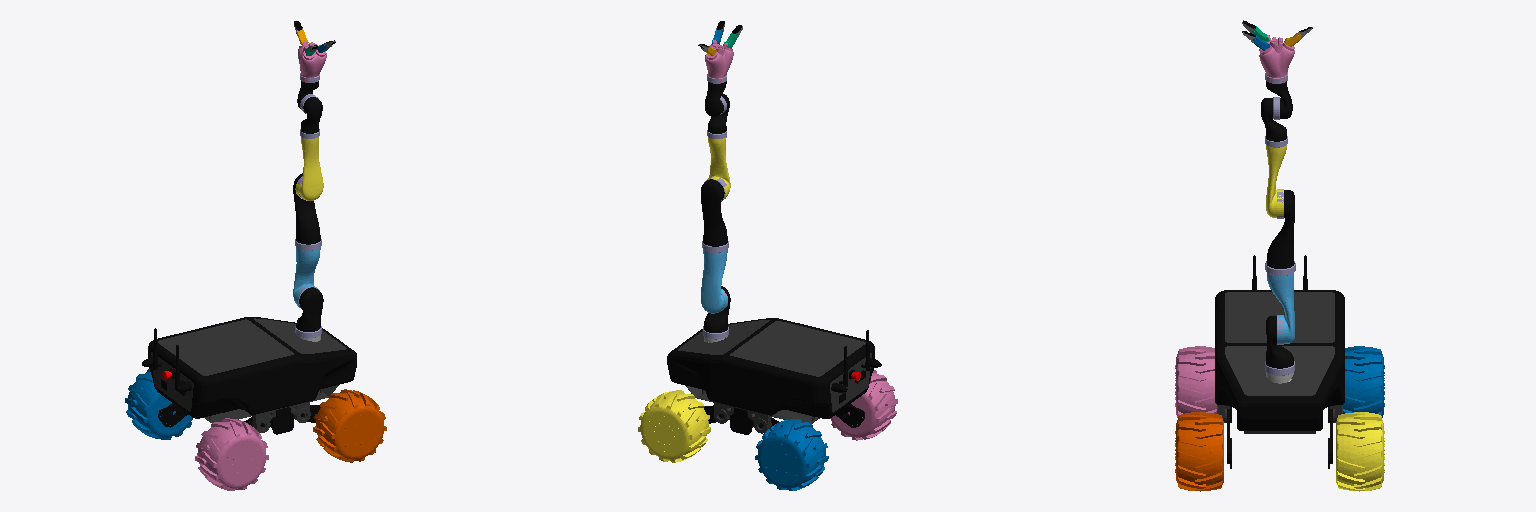
--- What the picture shows (computed from the rendered views, not written in the file) ---
3 views of the same robot in one strip: view 1: azimuth 30°, elevation 25°; view 2: azimuth 150°, elevation 25°; view 3: azimuth 270°, elevation 25° (orthographic).
Robot: lunalab_summit_xl_gen — 22 links, 21 joints (13 revolute, 4 continuous, 4 fixed); root link robot_summit_xl_base_footprint; default pose: joints at zero except 3 at the middle of their limits (robot_j2s7s300_joint_2 = 3.14, robot_j2s7s300_joint_4 = 3.14, robot_j2s7s300_joint_6 = 3.14).
Visible links, largest first — view 1: robot_summit_xl_base_link, robot_summit_xl_back_right_wheel, robot_summit_xl_front_right_wheel, robot_summit_xl_back_left_wheel, robot_j2s7s300_link_3, robot_j2s7s300_link_4, robot_j2s7s300_link_1, robot_j2s7s300_link_2, robot_j2s7s300_link_7, robot_j2s7s300_link_5; view 2: robot_summit_xl_base_link, robot_summit_xl_back_left_wheel, robot_summit_xl_front_left_wheel, robot_summit_xl_back_right_wheel, robot_j2s7s300_link_3, robot_j2s7s300_link_2, robot_j2s7s300_link_4, robot_j2s7s300_link_7, robot_j2s7s300_link_1, robot_j2s7s300_link_6; view 3: robot_summit_xl_base_link, robot_summit_xl_front_left_wheel, robot_summit_xl_front_right_wheel, robot_summit_xl_back_left_wheel, robot_summit_xl_back_right_wheel, robot_j2s7s300_link_3, robot_j2s7s300_link_2, robot_j2s7s300_link_7, robot_j2s7s300_link_1, robot_j2s7s300_link_4, robot_j2s7s300_link_5, robot_j2s7s300_link_6.
Link boxes in pixels (x1,y1,x2,y2): robot_summit_xl_base_link: (142, 317, 356, 434); robot_summit_xl_back_right_wheel: (195, 418, 268, 490); robot_summit_xl_front_right_wheel: (313, 389, 386, 462); robot_summit_xl_back_left_wheel: (125, 369, 192, 439); robot_j2s7s300_link_3: (293, 173, 321, 250); robot_j2s7s300_link_4: (295, 137, 323, 200); robot_j2s7s300_link_1: (295, 287, 323, 337); robot_j2s7s300_link_2: (293, 247, 320, 308); robot_j2s7s300_link_7: (298, 41, 326, 82); robot_j2s7s300_link_5: (300, 97, 322, 138); robot_summit_xl_base_link: (667, 318, 881, 434); robot_summit_xl_back_left_wheel: (755, 419, 828, 490); robot_summit_xl_front_left_wheel: (638, 390, 710, 462); robot_summit_xl_back_right_wheel: (830, 370, 897, 440); robot_j2s7s300_link_3: (701, 179, 728, 252); robot_j2s7s300_link_2: (701, 249, 727, 313); robot_j2s7s300_link_4: (704, 137, 730, 201); robot_j2s7s300_link_7: (705, 40, 733, 83); robot_j2s7s300_link_1: (703, 286, 730, 339); robot_j2s7s300_link_6: (705, 81, 726, 116); robot_summit_xl_base_link: (1215, 255, 1344, 468); robot_summit_xl_front_left_wheel: (1336, 412, 1384, 491); robot_summit_xl_front_right_wheel: (1175, 412, 1223, 491); robot_summit_xl_back_left_wheel: (1343, 346, 1384, 417); robot_summit_xl_back_right_wheel: (1175, 346, 1216, 417); robot_j2s7s300_link_3: (1265, 190, 1295, 275); robot_j2s7s300_link_2: (1267, 273, 1294, 344); robot_j2s7s300_link_7: (1259, 35, 1294, 83); robot_j2s7s300_link_1: (1265, 316, 1294, 375); robot_j2s7s300_link_4: (1266, 145, 1286, 218); robot_j2s7s300_link_5: (1261, 98, 1287, 147); robot_j2s7s300_link_6: (1266, 81, 1292, 119).
Bounding box of the posed robot: 0.7225 × 0.6175 × 1.49 m (x, y, z).
Meshes: 15 distinct files referenced, 26 mesh visuals loaded (15 Collada DAE).

URDF robot description (lunalab_summit_xl_gen):
<?xml version="1.0" ?>
<!-- =================================================================================== -->
<!-- |    This document was autogenerated by xacro from [local-path]/ws/code/repos/lunalab_summit_xl_gen/lunalab_summit_xl_gen_description/urdf/lunalab_summit_xl_gen.urdf.xacro | -->
<!-- |    EDITING THIS FILE BY HAND IS NOT RECOMMENDED                                 | -->
<!-- =================================================================================== -->
<!-- URDF for Summit XL-GEN (LunaLab variant) -->
<robot name="lunalab_summit_xl_gen">
  <!-- Sensors -->
  <!-- <xacro:include filename="$(find lunalab_summit_xl_gen_description)/urdf/lunalab_summit_xl_sensors.xacro"/> -->
  <!-- Miscellaneous -->
  <!-- <xacro:include filename="$(find lunalab_summit_xl_gen_description)/urdf/lunalab_summit_xl_misc.xacro"/> -->
  <link name="robot_summit_xl_base_footprint">
  </link>
  <joint name="robot_summit_xl_base_footprint_joint" type="fixed">
    <origin rpy="0 0 0" xyz="0 0 0.11"/>
    <parent link="robot_summit_xl_base_footprint"/>
    <child link="robot_summit_xl_base_link"/>
  </joint>
  <link name="robot_summit_xl_base_link">
    <inertial>
      <mass value="25.0"/>
      <origin xyz="0 0 0"/>
      <inertia ixx="1.391" ixy="0.004" ixz="0.0" iyy="6.853" iyz="0.0" izz="6.125"/>
    </inertial>
    <visual>
      <origin rpy="0 0 0" xyz="0 0 0"/>
      <geometry>
        <mesh filename="package://lunalab_summit_xl_gen_description/meshes/summit_xl/visual/summit_xl_chassis.dae"/>
      </geometry>
    </visual>
    <collision>
      <origin rpy="0 0 0 " xyz="0 0 0"/>
      <geometry>
        <mesh filename="package://lunalab_summit_xl_gen_description/meshes/summit_xl/collision/summit_xl_chassis.stl"/>
      </geometry>
    </collision>
  </link>
  <link name="robot_summit_xl_base_docking_contact_link">
  </link>
  <joint name="robot_summit_xl_base_docking_joint" type="fixed">
    <origin rpy="0 0 0 " xyz="0.284 0.012 0.068"/>
    <parent link="robot_summit_xl_base_link"/>
    <child link="robot_summit_xl_base_docking_contact_link"/>
  </joint>
  <joint name="robot_summit_xl_front_left_wheel_joint" type="continuous">
    <parent link="robot_summit_xl_base_link"/>
    <child link="robot_summit_xl_front_left_wheel"/>
    <origin rpy="0 0 0" xyz="0.229 0.235 0.0"/>
    <axis rpy="0 0 0" xyz="0 1 0"/>
    <limit effort="100" velocity="100"/>
    <dynamics damping="0.035" friction="0.0005"/>
  </joint>
  <link name="robot_summit_xl_front_left_wheel">
    <visual>
      <origin rpy="0 0 0" xyz="0 0 0"/>
      <geometry>
        <mesh filename="package://lunalab_summit_xl_gen_description/meshes/summit_xl/visual/rubber_wheel_left.dae"/>
      </geometry>
    </visual>
    <collision>
      <origin rpy="1.5707963267948966 0 0" xyz="0 0 0"/>
      <geometry>
        <cylinder length="0.15" radius="0.11"/>
      </geometry>
    </collision>
    <inertial>
      <mass value="6.5"/>
      <origin xyz="0 0 0"/>
      <inertia ixx="0.031849999999999996" ixy="0" ixz="0" iyy="0.039325" iyz="0" izz="0.031849999999999996"/>
    </inertial>
  </link>
  <transmission name="robot_summit_xl_front_left_wheel_joint_trans">
    <type>transmission_interface/SimpleTransmission</type>
    <joint name="robot_summit_xl_front_left_wheel_joint">
      <hardwareInterface>hardware_interface/VelocityJointInterface</hardwareInterface>
    </joint>
    <actuator name="robot_summit_xl_front_left_wheel_joint_actuator">
      <mechanicalReduction>1</mechanicalReduction>
      <motorTorqueConstant>20</motorTorqueConstant>
    </actuator>
  </transmission>
  <gazebo reference="robot_summit_xl_front_left_wheel">
    <mu1 value="1.9"/>
    <mu2 value="1.7"/>
    <fdir1 value="1 0 0"/>
  </gazebo>
  <gazebo reference="robot_summit_xl_front_left_wheel">
    <visual>
      <material>
        <diffuse>1 1 1 1</diffuse>
        <specular>1 1 1 1</specular>
        <pbr>
          <metal>
            <albedo_map>package://lunalab_summit_xl_gen_description/materials/textures/summit_xl/rubber_wheel_albedo.png</albedo_map>
            <normal_map>package://lunalab_summit_xl_gen_description/materials/textures/summit_xl/rubber_wheel_normal.png</normal_map>
            <roughness_map>package://lunalab_summit_xl_gen_description/materials/textures/summit_xl/rubber_wheel_roughness.png</roughness_map>
            <metalness_map>package://lunalab_summit_xl_gen_description/materials/textures/summit_xl/rubber_wheel_metalness.png</metalness_map>
          </metal>
        </pbr>
      </material>
    </visual>
  </gazebo>
  <joint name="robot_summit_xl_back_left_wheel_joint" type="continuous">
    <parent link="robot_summit_xl_base_link"/>
    <child link="robot_summit_xl_back_left_wheel"/>
    <origin rpy="0 0 0" xyz="-0.229 0.235 0.0"/>
    <axis rpy="0 0 0" xyz="0 1 0"/>
    <limit effort="100" velocity="100"/>
    <dynamics damping="0.035" friction="0.0005"/>
  </joint>
  <link name="robot_summit_xl_back_left_wheel">
    <visual>
      <origin rpy="0 0 0" xyz="0 0 0"/>
      <geometry>
        <mesh filename="package://lunalab_summit_xl_gen_description/meshes/summit_xl/visual/rubber_wheel_left.dae"/>
      </geometry>
    </visual>
    <collision>
      <origin rpy="1.5707963267948966 0 0" xyz="0 0 0"/>
      <geometry>
        <cylinder length="0.15" radius="0.11"/>
      </geometry>
    </collision>
    <inertial>
      <mass value="6.5"/>
      <origin xyz="0 0 0"/>
      <inertia ixx="0.031849999999999996" ixy="0" ixz="0" iyy="0.039325" iyz="0" izz="0.031849999999999996"/>
    </inertial>
  </link>
  <transmission name="robot_summit_xl_back_left_wheel_joint_trans">
    <type>transmission_interface/SimpleTransmission</type>
    <joint name="robot_summit_xl_back_left_wheel_joint">
      <hardwareInterface>hardware_interface/VelocityJointInterface</hardwareInterface>
    </joint>
    <actuator name="robot_summit_xl_back_left_wheel_joint_actuator">
      <mechanicalReduction>1</mechanicalReduction>
      <motorTorqueConstant>20</motorTorqueConstant>
    </actuator>
  </transmission>
  <gazebo reference="robot_summit_xl_back_left_wheel">
    <mu1 value="1.9"/>
    <mu2 value="1.7"/>
    <fdir1 value="1 0 0"/>
  </gazebo>
  <gazebo reference="robot_summit_xl_back_left_wheel">
    <visual>
      <material>
        <diffuse>1 1 1 1</diffuse>
        <specular>1 1 1 1</specular>
        <pbr>
          <metal>
            <albedo_map>package://lunalab_summit_xl_gen_description/materials/textures/summit_xl/rubber_wheel_albedo.png</albedo_map>
            <normal_map>package://lunalab_summit_xl_gen_description/materials/textures/summit_xl/rubber_wheel_normal.png</normal_map>
            <roughness_map>package://lunalab_summit_xl_gen_description/materials/textures/summit_xl/rubber_wheel_roughness.png</roughness_map>
            <metalness_map>package://lunalab_summit_xl_gen_description/materials/textures/summit_xl/rubber_wheel_metalness.png</metalness_map>
          </metal>
        </pbr>
      </material>
    </visual>
  </gazebo>
  <joint name="robot_summit_xl_front_right_wheel_joint" type="continuous">
    <parent link="robot_summit_xl_base_link"/>
    <child link="robot_summit_xl_front_right_wheel"/>
    <origin rpy="0 0 0" xyz="0.229 -0.235 0.0"/>
    <axis rpy="0 0 0" xyz="0 1 0"/>
    <limit effort="100" velocity="100"/>
    <dynamics damping="0.035" friction="0.0005"/>
  </joint>
  <link name="robot_summit_xl_front_right_wheel">
    <visual>
      <origin rpy="0 0 0" xyz="0 0 0"/>
      <geometry>
        <mesh filename="package://lunalab_summit_xl_gen_description/meshes/summit_xl/visual/rubber_wheel_right.dae"/>
      </geometry>
    </visual>
    <collision>
      <origin rpy="1.5707963267948966 0 0" xyz="0 0 0"/>
      <geometry>
        <cylinder length="0.15" radius="0.11"/>
      </geometry>
    </collision>
    <inertial>
      <mass value="6.5"/>
      <origin xyz="0 0 0"/>
      <inertia ixx="0.031849999999999996" ixy="0" ixz="0" iyy="0.039325" iyz="0" izz="0.031849999999999996"/>
    </inertial>
  </link>
  <transmission name="robot_summit_xl_front_right_wheel_joint_trans">
    <type>transmission_interface/SimpleTransmission</type>
    <joint name="robot_summit_xl_front_right_wheel_joint">
      <hardwareInterface>hardware_interface/VelocityJointInterface</hardwareInterface>
    </joint>
    <actuator name="robot_summit_xl_front_right_wheel_joint_actuator">
      <mechanicalReduction>1</mechanicalReduction>
      <motorTorqueConstant>20</motorTorqueConstant>
    </actuator>
  </transmission>
  <gazebo reference="robot_summit_xl_front_right_wheel">
    <mu1 value="1.9"/>
    <mu2 value="1.7"/>
    <fdir1 value="1 0 0"/>
  </gazebo>
  <gazebo reference="robot_summit_xl_front_right_wheel">
    <visual>
      <material>
        <diffuse>1 1 1 1</diffuse>
        <specular>1 1 1 1</specular>
        <pbr>
          <metal>
            <albedo_map>package://lunalab_summit_xl_gen_description/materials/textures/summit_xl/rubber_wheel_albedo.png</albedo_map>
            <normal_map>package://lunalab_summit_xl_gen_description/materials/textures/summit_xl/rubber_wheel_normal.png</normal_map>
            <roughness_map>package://lunalab_summit_xl_gen_description/materials/textures/summit_xl/rubber_wheel_roughness.png</roughness_map>
            <metalness_map>package://lunalab_summit_xl_gen_description/materials/textures/summit_xl/rubber_wheel_metalness.png</metalness_map>
          </metal>
        </pbr>
      </material>
    </visual>
  </gazebo>
  <joint name="robot_summit_xl_back_right_wheel_joint" type="continuous">
    <parent link="robot_summit_xl_base_link"/>
    <child link="robot_summit_xl_back_right_wheel"/>
    <origin rpy="0 0 0" xyz="-0.229 -0.235 0.0"/>
    <axis rpy="0 0 0" xyz="0 1 0"/>
    <limit effort="100" velocity="100"/>
    <dynamics damping="0.035" friction="0.0005"/>
  </joint>
  <link name="robot_summit_xl_back_right_wheel">
    <visual>
      <origin rpy="0 0 0" xyz="0 0 0"/>
      <geometry>
        <mesh filename="package://lunalab_summit_xl_gen_description/meshes/summit_xl/visual/rubber_wheel_right.dae"/>
      </geometry>
    </visual>
    <collision>
      <origin rpy="1.5707963267948966 0 0" xyz="0 0 0"/>
      <geometry>
        <cylinder length="0.15" radius="0.11"/>
      </geometry>
    </collision>
    <inertial>
      <mass value="6.5"/>
      <origin xyz="0 0 0"/>
      <inertia ixx="0.031849999999999996" ixy="0" ixz="0" iyy="0.039325" iyz="0" izz="0.031849999999999996"/>
    </inertial>
  </link>
  <transmission name="robot_summit_xl_back_right_wheel_joint_trans">
    <type>transmission_interface/SimpleTransmission</type>
    <joint name="robot_summit_xl_back_right_wheel_joint">
      <hardwareInterface>hardware_interface/VelocityJointInterface</hardwareInterface>
    </joint>
    <actuator name="robot_summit_xl_back_right_wheel_joint_actuator">
      <mechanicalReduction>1</mechanicalReduction>
      <motorTorqueConstant>20</motorTorqueConstant>
    </actuator>
  </transmission>
  <gazebo reference="robot_summit_xl_back_right_wheel">
    <mu1 value="1.9"/>
    <mu2 value="1.7"/>
    <fdir1 value="1 0 0"/>
  </gazebo>
  <gazebo reference="robot_summit_xl_back_right_wheel">
    <visual>
      <material>
        <diffuse>1 1 1 1</diffuse>
        <specular>1 1 1 1</specular>
        <pbr>
          <metal>
            <albedo_map>package://lunalab_summit_xl_gen_description/materials/textures/summit_xl/rubber_wheel_albedo.png</albedo_map>
            <normal_map>package://lunalab_summit_xl_gen_description/materials/textures/summit_xl/rubber_wheel_normal.png</normal_map>
            <roughness_map>package://lunalab_summit_xl_gen_description/materials/textures/summit_xl/rubber_wheel_roughness.png</roughness_map>
            <metalness_map>package://lunalab_summit_xl_gen_description/materials/textures/summit_xl/rubber_wheel_metalness.png</metalness_map>
          </metal>
        </pbr>
      </material>
    </visual>
  </gazebo>
  <ros2_control name="SummitXlSystem" type="system">
    <hardware>
      <plugin>ign_ros2_control/IgnitionSystem</plugin>
    </hardware>
    <joint name="robot_summit_xl_front_left_wheel_joint">
      <param name="initial_position">0</param>
      <state_interface name="position"/>
      <state_interface name="velocity"/>
      <state_interface name="effort"/>
    </joint>
    <joint name="robot_summit_xl_back_left_wheel_joint">
      <param name="initial_position">0</param>
      <state_interface name="position"/>
      <state_interface name="velocity"/>
      <state_interface name="effort"/>
    </joint>
    <joint name="robot_summit_xl_front_right_wheel_joint">
      <param name="initial_position">0</param>
      <state_interface name="position"/>
      <state_interface name="velocity"/>
      <state_interface name="effort"/>
    </joint>
    <joint name="robot_summit_xl_back_right_wheel_joint">
      <param name="initial_position">0</param>
      <state_interface name="position"/>
      <state_interface name="velocity"/>
      <state_interface name="effort"/>
    </joint>
  </ros2_control>
  <gazebo>
    <plugin filename="ignition-gazebo-diff-drive-system" name="ignition::gazebo::systems::DiffDrive">
      <left_joint>robot_summit_xl_front_left_wheel_joint</left_joint>
      <left_joint>robot_summit_xl_back_left_wheel_joint</left_joint>
      <right_joint>robot_summit_xl_front_right_wheel_joint</right_joint>
      <right_joint>robot_summit_xl_back_right_wheel_joint</right_joint>
      <wheel_separation>0.47</wheel_separation>
      <wheel_radius>0.11</wheel_radius>
    </plugin>
  </gazebo>
  <link name="robot_j2s7s300_link_base">
    <visual>
      <geometry>
        <mesh filename="package://lunalab_summit_xl_gen_description/meshes/kinova/visual/base.dae"/>
      </geometry>
    </visual>
    <collision>
      <geometry>
        <mesh filename="package://lunalab_summit_xl_gen_description/meshes/kinova/collision/base.stl"/>
      </geometry>
    </collision>
    <inertial>
      <mass value="0.46784"/>
      <origin rpy="0 0 0" xyz="0 0 0.1255"/>
      <inertia ixx="0.0009512746666666666" ixy="0" ixz="0" iyy="0.0009512746666666666" iyz="0" izz="0.00037427200000000004"/>
    </inertial>
  </link>
  <gazebo reference="robot_j2s7s300_link_base">
    <mu1 value="0.9"/>
    <mu2 value="0.9"/>
  </gazebo>
  <joint name="robot_j2s7s300_joint_base" type="fixed">
    <parent link="robot_summit_xl_base_link"/>
    <child link="robot_j2s7s300_link_base"/>
    <axis xyz="0 0 0"/>
    <origin rpy="0.0 0.0 0.0" xyz="0.204 0.0 0.11"/>
    <dynamics damping="0.0" friction="0.0"/>
    <safety_controller k_position="20" k_velocity="0.0" soft_lower_limit="0.17453293" soft_upper_limit="-0.17453293"/>
  </joint>
  <link name="robot_j2s7s300_link_1">
    <visual>
      <geometry>
        <mesh filename="package://lunalab_summit_xl_gen_description/meshes/kinova/visual/shoulder.dae"/>
      </geometry>
    </visual>
    <visual>
      <geometry>
        <mesh filename="package://lunalab_summit_xl_gen_description/meshes/kinova/visual/ring_big.dae"/>
      </geometry>
    </visual>
    <collision>
      <geometry>
        <mesh filename="package://lunalab_summit_xl_gen_description/meshes/kinova/collision/shoulder.stl"/>
      </geometry>
    </collision>
    <inertial>
      <mass value="0.7477"/>
      <origin xyz="0 -0.002 -0.0605"/>
      <inertia ixx="0.0015203233333333334" ixy="0" ixz="0" iyy="0.0015203233333333334" iyz="0" izz="0.00059816"/>
    </inertial>
  </link>
  <gazebo reference="robot_j2s7s300_link_1">
    <mu1 value="0.9"/>
    <mu2 value="0.9"/>
  </gazebo>
  <joint name="robot_j2s7s300_joint_1" type="revolute">
    <parent link="robot_j2s7s300_link_base"/>
    <child link="robot_j2s7s300_link_1"/>
    <axis xyz="0 0 1"/>
    <limit effort="40" lower="-174.04423300887453" upper="174.04423300887453" velocity="0.6283185307179586"/>
    <origin rpy="0 3.141592653589793 0" xyz="0 0 0.15675"/>
    <dynamics damping="15.0" friction="0.5"/>
    <safety_controller k_position="20" k_velocity="0.0" soft_lower_limit="-173.86970007887453" soft_upper_limit="173.86970007887453"/>
  </joint>
  <transmission name="robot_j2s7s300_joint_1_trans">
    <type>transmission_interface/SimpleTransmission</type>
    <joint name="robot_j2s7s300_joint_1">
      <hardwareInterface>hardware_interface/EffortJointInterface</hardwareInterface>
    </joint>
    <actuator name="robot_j2s7s300_joint_1_actuator">
      <mechanicalReduction>160</mechanicalReduction>
    </actuator>
  </transmission>
  <link name="robot_j2s7s300_link_2">
    <visual>
      <geometry>
        <mesh filename="package://lunalab_summit_xl_gen_description/meshes/kinova/visual/arm_half_1.dae"/>
      </geometry>
    </visual>
    <visual>
      <geometry>
        <mesh filename="package://lunalab_summit_xl_gen_description/meshes/kinova/visual/ring_big.dae"/>
      </geometry>
    </visual>
    <collision>
      <geometry>
        <mesh filename="package://lunalab_summit_xl_gen_description/meshes/kinova/collision/arm_half_1.stl"/>
      </geometry>
    </collision>
    <inertial>
      <mass value="0.8447"/>
      <origin xyz="0 -0.103563213 0"/>
      <inertia ixx="0.0024707475" ixy="0" ixz="0" iyy="0.000380115" iyz="0" izz="0.0024707475"/>
    </inertial>
  </link>
  <gazebo reference="robot_j2s7s300_link_2">
    <mu1 value="0.9"/>
    <mu2 value="0.9"/>
  </gazebo>
  <joint name="robot_j2s7s300_joint_2" type="revolute">
    <parent link="robot_j2s7s300_link_1"/>
    <child link="robot_j2s7s300_link_2"/>
    <axis xyz="0 0 1"/>
    <limit effort="40" lower="0.8203047484373349" upper="5.462880558742251" velocity="0.6283185307179586"/>
    <origin rpy="-1.5707963267948966 0 3.141592653589793" xyz="0 0.0016 -0.11875"/>
    <dynamics damping="16.0" friction="0.9"/>
    <safety_controller k_position="20" k_velocity="0.0" soft_lower_limit="0.994837678437335" soft_upper_limit="5.288347628742251"/>
  </joint>
  <transmission name="robot_j2s7s300_joint_2_trans">
    <type>transmission_interface/SimpleTransmission</type>
    <joint name="robot_j2s7s300_joint_2">
      <hardwareInterface>hardware_interface/EffortJointInterface</hardwareInterface>
    </joint>
    <actuator name="robot_j2s7s300_joint_2_actuator">
      <mechanicalReduction>160</mechanicalReduction>
    </actuator>
  </transmission>
  <link name="robot_j2s7s300_link_3">
    <visual>
      <geometry>
        <mesh filename="package://lunalab_summit_xl_gen_description/meshes/kinova/visual/arm_half_2.dae"/>
      </geometry>
    </visual>
    <visual>
      <geometry>
        <mesh filename="package://lunalab_summit_xl_gen_description/meshes/kinova/visual/ring_big.dae"/>
      </geometry>
    </visual>
    <collision>
      <geometry>
        <mesh filename="package://lunalab_summit_xl_gen_description/meshes/kinova/collision/arm_half_2.stl"/>
      </geometry>
    </collision>
    <inertial>
      <mass value="0.8447"/>
      <origin xyz="0 0 -0.1022447445"/>
      <inertia ixx="0.0024707475" ixy="0" ixz="0" iyy="0.0024707475" iyz="0" izz="0.000380115"/>
    </inertial>
  </link>
  <gazebo reference="robot_j2s7s300_link_3">
    <mu1 value="0.9"/>
    <mu2 value="0.9"/>
  </gazebo>
  <joint name="robot_j2s7s300_joint_3" type="revolute">
    <parent link="robot_j2s7s300_link_2"/>
    <child link="robot_j2s7s300_link_3"/>
    <axis xyz="0 0 1"/>
    <limit effort="40" lower="-174.04423300887453" upper="174.04423300887453" velocity="0.6283185307179586"/>
    <origin rpy="-1.5707963267948966 0 0" xyz="0 -0.205 0"/>
    <dynamics damping="12.0" friction="0.8"/>
    <safety_controller k_position="20" k_velocity="0.0" soft_lower_limit="-173.86970007887453" soft_upper_limit="173.86970007887453"/>
  </joint>
  <transmission name="robot_j2s7s300_joint_3_trans">
    <type>transmission_interface/SimpleTransmission</type>
    <joint name="robot_j2s7s300_joint_3">
      <hardwareInterface>hardware_interface/EffortJointInterface</hardwareInterface>
    </joint>
    <actuator name="robot_j2s7s300_joint_3_actuator">
      <mechanicalReduction>160</mechanicalReduction>
    </actuator>
  </transmission>
  <link name="robot_j2s7s300_link_4">
    <visual>
      <geometry>
        <mesh filename="package://lunalab_summit_xl_gen_description/meshes/kinova/visual/forearm.dae"/>
      </geometry>
    </visual>
    <visual>
      <geometry>
        <mesh filename="package://lunalab_summit_xl_gen_description/meshes/kinova/visual/ring_big.dae"/>
      </geometry>
    </visual>
    <collision>
      <geometry>
        <mesh filename="package://lunalab_summit_xl_gen_description/meshes/kinova/collision/forearm.stl"/>
      </geometry>
    </collision>
    <inertial>
      <mass value="0.6763"/>
      <origin xyz="0 0.081 -0.0086"/>
      <inertia ixx="0.00142023" ixy="0" ixz="0" iyy="0.000304335" iyz="0" izz="0.00142023"/>
    </inertial>
  </link>
  <gazebo reference="robot_j2s7s300_link_4">
    <mu1 value="0.9"/>
    <mu2 value="0.9"/>
  </gazebo>
  <joint name="robot_j2s7s300_joint_4" type="revolute">
    <parent link="robot_j2s7s300_link_3"/>
    <child link="robot_j2s7s300_link_4"/>
    <axis xyz="0 0 1"/>
    <limit effort="40" lower="0.5235987755982988" upper="5.759586531581287" velocity="0.6283185307179586"/>
    <origin rpy="1.5707963267948966 0 3.141592653589793" xyz="0 0 -0.205"/>
    <dynamics damping="8.0" friction="0.55"/>
    <safety_controller k_position="20" k_velocity="0.0" soft_lower_limit="0.6981317055982988" soft_upper_limit="5.585053601581287"/>
  </joint>
  <transmission name="robot_j2s7s300_joint_4_trans">
    <type>transmission_interface/SimpleTransmission</type>
    <joint name="robot_j2s7s300_joint_4">
      <hardwareInterface>hardware_interface/EffortJointInterface</hardwareInterface>
    </joint>
    <actuator name="robot_j2s7s300_joint_4_actuator">
      <mechanicalReduction>160</mechanicalReduction>
    </actuator>
  </transmission>
  <link name="robot_j2s7s300_link_5">
    <visual>
      <geometry>
        <mesh filename="package://lunalab_summit_xl_gen_description/meshes/kinova/visual/wrist_spherical_1.dae"/>
      </geometry>
    </visual>
    <visual>
      <geometry>
        <mesh filename="package://lunalab_summit_xl_gen_description/meshes/kinova/visual/ring_small.dae"/>
      </geometry>
    </visual>
    <collision>
      <geometry>
        <mesh filename="package://lunalab_summit_xl_gen_description/meshes/kinova/collision/wrist_spherical_1.stl"/>
      </geometry>
    </collision>
    <inertial>
      <mass value="0.463"/>
      <origin xyz="0 0.0028848942 -0.0541932613"/>
      <inertia ixx="0.00043213333333333345" ixy="0" ixz="0" iyy="0.00043213333333333345" iyz="0" izz="9.260000000000001e-05"/>
    </inertial>
  </link>
  <gazebo reference="robot_j2s7s300_link_5">
    <mu1 value="0.9"/>
    <mu2 value="0.9"/>
  </gazebo>
  <joint name="robot_j2s7s300_joint_5" type="revolute">
    <parent link="robot_j2s7s300_link_4"/>
    <child link="robot_j2s7s300_link_5"/>
    <axis xyz="0 0 1"/>
    <limit effort="20" lower="-174.04423300887453" upper="174.04423300887453" velocity="0.8377580409572781"/>
    <origin rpy="-1.5707963267948966 0 3.141592653589793" xyz="0 0.2073 -0.0114"/>
    <dynamics damping="6.5" friction="0.35"/>
    <safety_controller k_position="20" k_velocity="0.0" soft_lower_limit="-173.86970007887453" soft_upper_limit="173.86970007887453"/>
  </joint>
  <transmission name="robot_j2s7s300_joint_5_trans">
    <type>transmission_interface/SimpleTransmission</type>
    <joint name="robot_j2s7s300_joint_5">
      <hardwareInterface>hardware_interface/EffortJointInterface</hardwareInterface>
    </joint>
    <actuator name="robot_j2s7s300_joint_5_actuator">
      <mechanicalReduction>160</mechanicalReduction>
    </actuator>
  </transmission>
  <link name="robot_j2s7s300_link_6">
    <visual>
      <geometry>
        <mesh filename="package://lunalab_summit_xl_gen_description/meshes/kinova/visual/wrist_spherical_2.dae"/>
      </geometry>
    </visual>
    <visual>
      <geometry>
        <mesh filename="package://lunalab_summit_xl_gen_description/meshes/kinova/visual/ring_small.dae"/>
      </geometry>
    </visual>
    <collision>
      <geometry>
        <mesh filename="package://lunalab_summit_xl_gen_description/meshes/kinova/collision/wrist_spherical_2.stl"/>
      </geometry>
    </collision>
    <inertial>
      <mass value="0.463"/>
      <origin xyz="0 0.0497208855 -0.0028562765"/>
      <inertia ixx="0.00043213333333333345" ixy="0" ixz="0" iyy="9.260000000000001e-05" iyz="0" izz="0.00043213333333333345"/>
    </inertial>
  </link>
  <gazebo reference="robot_j2s7s300_link_6">
    <mu1 value="0.9"/>
    <mu2 value="0.9"/>
  </gazebo>
  <joint name="robot_j2s7s300_joint_6" type="revolute">
    <parent link="robot_j2s7s300_link_5"/>
    <child link="robot_j2s7s300_link_6"/>
    <axis xyz="0 0 1"/>
    <limit effort="20" lower="1.1344640137963142" upper="5.1487212933832724" velocity="0.8377580409572781"/>
    <origin rpy="1.5707963267948966 0 3.141592653589793" xyz="0 0 -0.10375"/>
    <dynamics damping="5.5" friction="0.25"/>
    <safety_controller k_position="20" k_velocity="0.0" soft_lower_limit="1.3089969437963143" soft_upper_limit="4.974188363383273"/>
  </joint>
  <transmission name="robot_j2s7s300_joint_6_trans">
    <type>transmission_interface/SimpleTransmission</type>
    <joint name="robot_j2s7s300_joint_6">
      <hardwareInterface>hardware_interface/EffortJointInterface</hardwareInterface>
    </joint>
    <actuator name="robot_j2s7s300_joint_6_actuator">
      <mechanicalReduction>160</mechanicalReduction>
    </actuator>
  </transmission>
  <link name="robot_j2s7s300_link_7">
    <visual>
      <geometry>
        <mesh filename="package://lunalab_summit_xl_gen_description/meshes/kinova/visual/hand_3finger.dae"/>
      </geometry>
    </visual>
    <visual>
      <geometry>
        <mesh filename="package://lunalab_summit_xl_gen_description/meshes/kinova/visual/ring_small.dae"/>
      </geometry>
    </visual>
    <collision>
      <geometry>
        <mesh filename="package://lunalab_summit_xl_gen_description/meshes/kinova/collision/hand_3finger.stl"/>
      </geometry>
    </collision>
    <inertial>
      <mass value="0.99"/>
      <origin xyz="0 0 -0.06"/>
      <inertia ixx="0.0003453249999999999" ixy="0" ixz="0" iyy="0.0003453249999999999" iyz="0" izz="0.0005815999999999999"/>
    </inertial>
  </link>
  <gazebo reference="robot_j2s7s300_link_7">
    <mu1 value="0.9"/>
    <mu2 value="0.9"/>
  </gazebo>
  <joint name="robot_j2s7s300_joint_7" type="revolute">
    <parent link="robot_j2s7s300_link_6"/>
    <child link="robot_j2s7s300_link_7"/>
    <axis xyz="0 0 1"/>
    <limit effort="20" lower="-174.04423300887453" upper="174.04423300887453" velocity="0.8377580409572781"/>
    <origin rpy="-1.5707963267948966 0 3.141592653589793" xyz="0 0.10375 0"/>
    <dynamics damping="4.5" friction="0.2"/>
    <safety_controller k_position="20" k_velocity="0.0" soft_lower_limit="-173.86970007887453" soft_upper_limit="173.86970007887453"/>
  </joint>
  <transmission name="robot_j2s7s300_joint_7_trans">
    <type>transmission_interface/SimpleTransmission</type>
    <joint name="robot_j2s7s300_joint_7">
      <hardwareInterface>hardware_interface/EffortJointInterface</hardwareInterface>
    </joint>
    <actuator name="robot_j2s7s300_joint_7_actuator">
      <mechanicalReduction>160</mechanicalReduction>
    </actuator>
  </transmission>
  <link name="robot_j2s7s300_end_effector">
  </link>
  <joint name="robot_j2s7s300_joint_end_effector" type="fixed">
    <parent link="robot_j2s7s300_link_7"/>
    <child link="robot_j2s7s300_end_effector"/>
    <origin rpy="3.141592653589793 0 1.5707963267948966" xyz="0 0 -0.1600"/>
  </joint>
  <link name="robot_j2s7s300_link_finger_1">
    <visual>
      <geometry>
        <mesh filename="package://lunalab_summit_xl_gen_description/meshes/kinova/visual/finger_proximal.dae"/>
      </geometry>
    </visual>
    <collision>
      <geometry>
        <mesh filename="package://lunalab_summit_xl_gen_description/meshes/kinova/collision/finger_proximal.stl"/>
      </geometry>
    </collision>
    <inertial>
      <mass value="0.01"/>
      <origin xyz="0.022 0 0"/>
      <inertia ixx="7.9e-07" ixy="0" ixz="0" iyy="7.9e-07" iyz="0" izz="8e-08"/>
    </inertial>
  </link>
  <gazebo reference="robot_j2s7s300_link_finger_1">
    <mu1 value="1.6"/>
    <mu2 value="1.6"/>
  </gazebo>
  <joint name="robot_j2s7s300_joint_finger_1" type="revolute">
    <parent link="robot_j2s7s300_link_7"/>
    <child link="robot_j2s7s300_link_finger_1"/>
    <axis xyz="0 0 1"/>
    <origin rpy="-1.704955772138421 0.6492624817418906 1.6728980880365647" xyz="0.002786 0.03126 -0.114668"/>
    <limit effort="5.0" lower="0.0" upper="1.51" velocity="1.0"/>
    <dynamics damping="0.3" friction="0.01"/>
  </joint>
  <transmission name="robot_j2s7s300_joint_finger_1_trans">
    <type>transmission_interface/SimpleTransmission</type>
    <joint name="robot_j2s7s300_joint_finger_1">
      <hardwareInterface>hardware_interface/EffortJointInterface</hardwareInterface>
    </joint>
    <actuator name="robot_j2s7s300_joint_finger_1_actuator">
      <hardwareInterface>hardware_interface/EffortJointInterface</hardwareInterface>
      <mechanicalReduction>1</mechanicalReduction>
    </actuator>
  </transmission>
  <link name="robot_j2s7s300_link_finger_tip_1">
    <visual>
      <geometry>
        <mesh filename="package://lunalab_summit_xl_gen_description/meshes/kinova/visual/finger_distal.dae"/>
      </geometry>
    </visual>
    <collision>
      <geometry>
        <mesh filename="package://lunalab_summit_xl_gen_description/meshes/kinova/collision/finger_distal.stl"/>
      </geometry>
    </collision>
    <inertial>
      <mass value="0.01"/>
      <origin xyz="0.022 0 0"/>
      <inertia ixx="7.9e-07" ixy="0" ixz="0" iyy="7.9e-07" iyz="0" izz="8e-08"/>
    </inertial>
  </link>
  <gazebo reference="robot_j2s7s300_link_finger_tip_1">
    <mu1 value="1.6"/>
    <mu2 value="1.6"/>
  </gazebo>
  <joint name="robot_j2s7s300_joint_finger_tip_1" type="revolute">
    <parent link="robot_j2s7s300_link_finger_1"/>
    <child link="robot_j2s7s300_link_finger_tip_1"/>
    <axis xyz="0 0 1"/>
    <origin rpy="0 0 0" xyz="0.044 -0.003 0"/>
    <limit effort="2.0" lower="0.0" upper="2.0" velocity="1.0"/>
    <dynamics damping="0.005" friction="0.00025"/>
  </joint>
  <transmission name="robot_j2s7s300_joint_finger_tip_1_trans">
    <type>transmission_interface/SimpleTransmission</type>
    <joint name="robot_j2s7s300_joint_finger_tip_1">
      <hardwareInterface>hardware_interface/EffortJointInterface</hardwareInterface>
    </joint>
    <actuator name="robot_j2s7s300_joint_finger_tip_1_actuator">
      <hardwareInterface>hardware_interface/EffortJointInterface</hardwareInterface>
      <mechanicalReduction>1</mechanicalReduction>
    </actuator>
  </transmission>
  <gazebo reference="robot_j2s7s300_joint_finger_tip_1">
    <springStiffness value="1.25"/>
    <springReference value="0.0"/>
  </gazebo>
  <gazebo reference="robot_j2s7s300_link_finger_tip_1">
    <self_collide>true</self_collide>
  </gazebo>
  <link name="robot_j2s7s300_link_finger_2">
    <visual>
      <geometry>
        <mesh filename="package://lunalab_summit_xl_gen_description/meshes/kinova/visual/finger_proximal.dae"/>
      </geometry>
    </visual>
    <collision>
      <geometry>
        <mesh filename="package://lunalab_summit_xl_gen_description/meshes/kinova/collision/finger_proximal.stl"/>
      </geometry>
    </collision>
    <inertial>
      <mass value="0.01"/>
      <origin xyz="0.022 0 0"/>
      <inertia ixx="7.9e-07" ixy="0" ixz="0" iyy="7.9e-07" iyz="0" izz="8e-08"/>
    </inertial>
  </link>
  <gazebo reference="robot_j2s7s300_link_finger_2">
    <mu1 value="1.6"/>
    <mu2 value="1.6"/>
  </gazebo>
  <joint name="robot_j2s7s300_joint_finger_2" type="revolute">
    <parent link="robot_j2s7s300_link_7"/>
    <child link="robot_j2s7s300_link_finger_2"/>
    <axis xyz="0 0 1"/>
    <origin rpy="-1.5707963267948966 0.6492624817418906 -1.3861404919338964" xyz="0.022256 -0.027073 -0.114668"/>
    <limit effort="5.0" lower="0.0" upper="1.51" velocity="1.0"/>
    <dynamics damping="0.3" friction="0.01"/>
  </joint>
  <transmission name="robot_j2s7s300_joint_finger_2_trans">
    <type>transmission_interface/SimpleTransmission</type>
    <joint name="robot_j2s7s300_joint_finger_2">
      <hardwareInterface>hardware_interface/EffortJointInterface</hardwareInterface>
    </joint>
    <actuator name="robot_j2s7s300_joint_finger_2_actuator">
      <hardwareInterface>hardware_interface/EffortJointInterface</hardwareInterface>
      <mechanicalReduction>1</mechanicalReduction>
    </actuator>
  </transmission>
  <link name="robot_j2s7s300_link_finger_tip_2">
    <visual>
      <geometry>
        <mesh filename="package://lunalab_summit_xl_gen_description/meshes/kinova/visual/finger_distal.dae"/>
      </geometry>
    </visual>
    <collision>
      <geometry>
        <mesh filename="package://lunalab_summit_xl_gen_description/meshes/kinova/collision/finger_distal.stl"/>
      </geometry>
    </collision>
    <inertial>
      <mass value="0.01"/>
      <origin xyz="0.022 0 0"/>
      <inertia ixx="7.9e-07" ixy="0" ixz="0" iyy="7.9e-07" iyz="0" izz="8e-08"/>
    </inertial>
  </link>
  <gazebo reference="robot_j2s7s300_link_finger_tip_2">
    <mu1 value="1.6"/>
    <mu2 value="1.6"/>
  </gazebo>
  <joint name="robot_j2s7s300_joint_finger_tip_2" type="revolute">
    <parent link="robot_j2s7s300_link_finger_2"/>
    <child link="robot_j2s7s300_link_finger_tip_2"/>
    <axis xyz="0 0 1"/>
    <origin rpy="0 0 0" xyz="0.044 -0.003 0"/>
    <limit effort="2.0" lower="0.0" upper="2.0" velocity="1.0"/>
    <dynamics damping="0.005" friction="0.00025"/>
  </joint>
  <transmission name="robot_j2s7s300_joint_finger_tip_2_trans">
    <type>transmission_interface/SimpleTransmission</type>
    <joint name="robot_j2s7s300_joint_finger_tip_2">
      <hardwareInterface>hardware_interface/EffortJointInterface</hardwareInterface>
    </joint>
    <actuator name="robot_j2s7s300_joint_finger_tip_2_actuator">
      <hardwareInterface>hardware_interface/EffortJointInterface</hardwareInterface>
      <mechanicalReduction>1</mechanicalReduction>
    </actuator>
  </transmission>
  <gazebo reference="robot_j2s7s300_joint_finger_tip_2">
    <springStiffness value="1.25"/>
    <springReference value="0.0"/>
  </gazebo>
  <gazebo reference="robot_j2s7s300_link_finger_tip_2">
    <self_collide>true</self_collide>
  </gazebo>
  <link name="robot_j2s7s300_link_finger_3">
    <visual>
      <geometry>
        <mesh filename="package://lunalab_summit_xl_gen_description/meshes/kinova/visual/finger_proximal.dae"/>
      </geometry>
    </visual>
    <collision>
      <geometry>
        <mesh filename="package://lunalab_summit_xl_gen_description/meshes/kinova/collision/finger_proximal.stl"/>
      </geometry>
    </collision>
    <inertial>
      <mass value="0.01"/>
      <origin xyz="0.022 0 0"/>
      <inertia ixx="7.9e-07" ixy="0" ixz="0" iyy="7.9e-07" iyz="0" izz="8e-08"/>
    </inertial>
  </link>
  <gazebo reference="robot_j2s7s300_link_finger_3">
    <mu1 value="1.6"/>
    <mu2 value="1.6"/>
  </gazebo>
  <joint name="robot_j2s7s300_joint_finger_3" type="revolute">
    <parent link="robot_j2s7s300_link_7"/>
    <child link="robot_j2s7s300_link_finger_3"/>
    <axis xyz="0 0 1"/>
    <origin rpy="-1.5707963267948966 0.6492624817418906 -1.7554521616558967" xyz="-0.022256 -0.027073 -0.114668"/>
    <limit effort="5.0" lower="0.0" upper="1.51" velocity="1.0"/>
    <dynamics damping="0.3" friction="0.01"/>
  </joint>
  <transmission name="robot_j2s7s300_joint_finger_3_trans">
    <type>transmission_interface/SimpleTransmission</type>
    <joint name="robot_j2s7s300_joint_finger_3">
      <hardwareInterface>hardware_interface/EffortJointInterface</hardwareInterface>
    </joint>
    <actuator name="robot_j2s7s300_joint_finger_3_actuator">
      <hardwareInterface>hardware_interface/EffortJointInterface</hardwareInterface>
      <mechanicalReduction>1</mechanicalReduction>
    </actuator>
  </transmission>
  <link name="robot_j2s7s300_link_finger_tip_3">
    <visual>
      <geometry>
        <mesh filename="package://lunalab_summit_xl_gen_description/meshes/kinova/visual/finger_distal.dae"/>
      </geometry>
    </visual>
    <collision>
      <geometry>
        <mesh filename="package://lunalab_summit_xl_gen_description/meshes/kinova/collision/finger_distal.stl"/>
      </geometry>
    </collision>
    <inertial>
      <mass value="0.01"/>
      <origin xyz="0.022 0 0"/>
      <inertia ixx="7.9e-07" ixy="0" ixz="0" iyy="7.9e-07" iyz="0" izz="8e-08"/>
    </inertial>
  </link>
  <gazebo reference="robot_j2s7s300_link_finger_tip_3">
    <mu1 value="1.6"/>
    <mu2 value="1.6"/>
  </gazebo>
  <joint name="robot_j2s7s300_joint_finger_tip_3" type="revolute">
    <parent link="robot_j2s7s300_link_finger_3"/>
    <child link="robot_j2s7s300_link_finger_tip_3"/>
    <axis xyz="0 0 1"/>
    <origin rpy="0 0 0" xyz="0.044 -0.003 0"/>
    <limit effort="2.0" lower="0.0" upper="2.0" velocity="1.0"/>
    <dynamics damping="0.005" friction="0.00025"/>
  </joint>
  <transmission name="robot_j2s7s300_joint_finger_tip_3_trans">
    <type>transmission_interface/SimpleTransmission</type>
    <joint name="robot_j2s7s300_joint_finger_tip_3">
      <hardwareInterface>hardware_interface/EffortJointInterface</hardwareInterface>
    </joint>
    <actuator name="robot_j2s7s300_joint_finger_tip_3_actuator">
      <hardwareInterface>hardware_interface/EffortJointInterface</hardwareInterface>
      <mechanicalReduction>1</mechanicalReduction>
    </actuator>
  </transmission>
  <gazebo reference="robot_j2s7s300_joint_finger_tip_3">
    <springStiffness value="1.25"/>
    <springReference value="0.0"/>
  </gazebo>
  <ros2_control name="KinovaArmSystem" type="system">
    <hardware>
      <plugin>ign_ros2_control/IgnitionSystem</plugin>
    </hardware>
    <joint name="robot_j2s7s300_joint_1">
      <param name="initial_position">0.0</param>
      <command_interface name="effort"/>
      <state_interface name="position"/>
      <state_interface name="velocity"/>
      <state_interface name="effort"/>
    </joint>
    <joint name="robot_j2s7s300_joint_2">
      <param name="initial_position">3.141592653589793</param>
      <command_interface name="effort"/>
      <state_interface name="position"/>
      <state_interface name="velocity"/>
      <state_interface name="effort"/>
    </joint>
    <joint name="robot_j2s7s300_joint_3">
      <param name="initial_position">0.0</param>
      <command_interface name="effort"/>
      <state_interface name="position"/>
      <state_interface name="velocity"/>
      <state_interface name="effort"/>
    </joint>
    <joint name="robot_j2s7s300_joint_4">
      <param name="initial_position">4.71238898038469</param>
      <command_interface name="effort"/>
      <state_interface name="position"/>
      <state_interface name="velocity"/>
      <state_interface name="effort"/>
    </joint>
    <joint name="robot_j2s7s300_joint_5">
      <param name="initial_position">0.0</param>
      <command_interface name="effort"/>
      <state_interface name="position"/>
      <state_interface name="velocity"/>
      <state_interface name="effort"/>
    </joint>
    <joint name="robot_j2s7s300_joint_6">
      <param name="initial_position">1.5707963267948966</param>
      <command_interface name="effort"/>
      <state_interface name="position"/>
      <state_interface name="velocity"/>
      <state_interface name="effort"/>
    </joint>
    <joint name="robot_j2s7s300_joint_7">
      <param name="initial_position">0.0</param>
      <command_interface name="effort"/>
      <state_interface name="position"/>
      <state_interface name="velocity"/>
      <state_interface name="effort"/>
    </joint>
  </ros2_control>
  <ros2_control name="KinovaGripperSystem" type="system">
    <hardware>
      <plugin>ign_ros2_control/IgnitionSystem</plugin>
    </hardware>
    <joint name="robot_j2s7s300_joint_finger_1">
      <param name="initial_position">0.2</param>
      <command_interface name="effort"/>
      <state_interface name="position"/>
      <state_interface name="velocity"/>
      <state_interface name="effort"/>
    </joint>
    <joint name="robot_j2s7s300_joint_finger_2">
      <param name="initial_position">0.2</param>
      <command_interface name="effort"/>
      <state_interface name="position"/>
      <state_interface name="velocity"/>
      <state_interface name="effort"/>
    </joint>
    <joint name="robot_j2s7s300_joint_finger_3">
      <param name="initial_position">0.2</param>
      <command_interface name="effort"/>
      <state_interface name="position"/>
      <state_interface name="velocity"/>
      <state_interface name="effort"/>
    </joint>
    <joint name="robot_j2s7s300_joint_finger_tip_1">
      <param name="initial_position">0</param>
      <state_interface name="position"/>
      <state_interface name="velocity"/>
      <state_interface name="effort"/>
    </joint>
    <joint name="robot_j2s7s300_joint_finger_tip_2">
      <param name="initial_position">0</param>
      <state_interface name="position"/>
      <state_interface name="velocity"/>
      <state_interface name="effort"/>
    </joint>
    <joint name="robot_j2s7s300_joint_finger_tip_3">
      <param name="initial_position">0</param>
      <state_interface name="position"/>
      <state_interface name="velocity"/>
      <state_interface name="effort"/>
    </joint>
  </ros2_control>
  <!-- Sensors -->
  <!-- <xacro:lunalab_summit_xl_sensors prefix="$(arg prefix)"/> -->
  <!-- Miscellaneous -->
  <!-- <xacro:lunalab_summit_xl_misc prefix="$(arg prefix)"/> -->
  <gazebo>
    <plugin filename="ign_ros2_control-system" name="ign_ros2_control::IgnitionROS2ControlPlugin">
      <parameters>[local-path]/ws/code/repos/lunalab_summit_xl_gen/install/share/lunalab_summit_xl_gen_moveit_config/config/controllers_effort.yaml</parameters>
    </plugin>
  </gazebo>
  <gazebo>
    <plugin filename="ignition-gazebo-pose-publisher-system" name="ignition::gazebo::systems::PosePublisher">
      <use_pose_vector_msg>true</use_pose_vector_msg>
      <publish_nested_model_pose>true</publish_nested_model_pose>
      <publish_link_pose>false</publish_link_pose>
      <publish_collision_pose>false</publish_collision_pose>
      <publish_visual_pose>false</publish_visual_pose>
    </plugin>
  </gazebo>
</robot>
